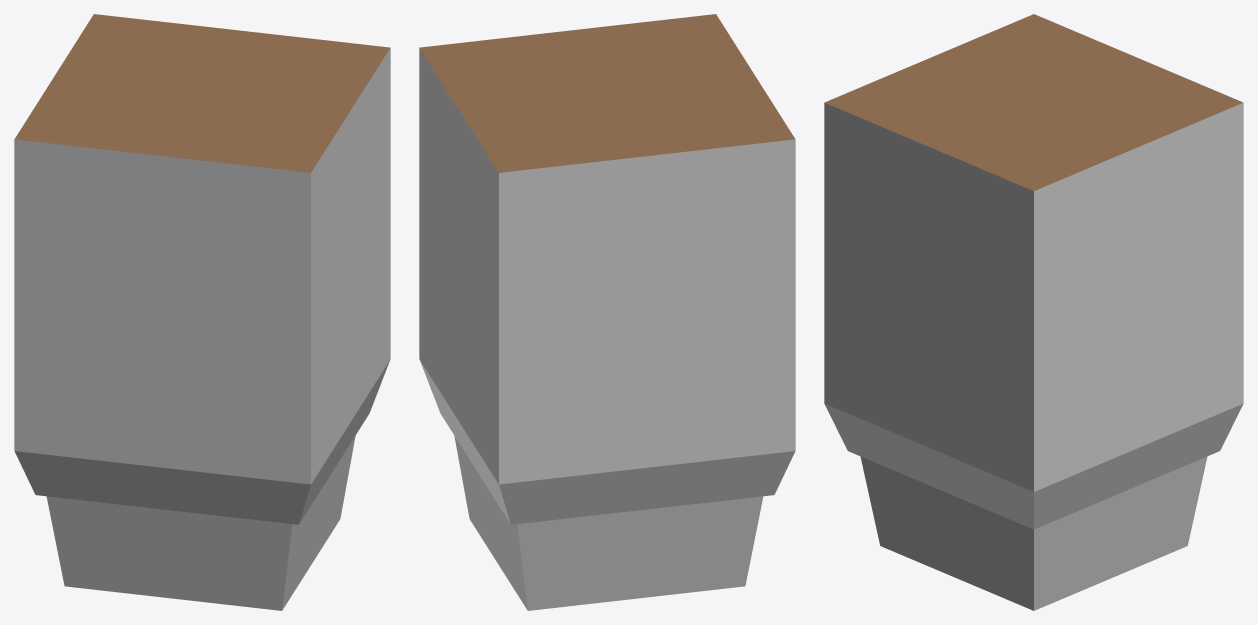
Rendered from Wall_Inner_Joint_Top.obj.
3 renders of one model, left to right at view 1: azimuth 30°, elevation 25°; view 2: azimuth 150°, elevation 25°; view 3: azimuth 270°, elevation 25°, orthographic. The views are drawn at different scales.
Parts seen in each view (by area): view 1: object1; view 2: object1; view 3: object1.
Boxes of the visible parts, x1,y1,x2,y2 form: object1: (14, 14, 390, 610); object1: (419, 14, 795, 610); object1: (824, 14, 1243, 610).
Size of the model in its own units: 0.3 by 0.35 by 0.3.
